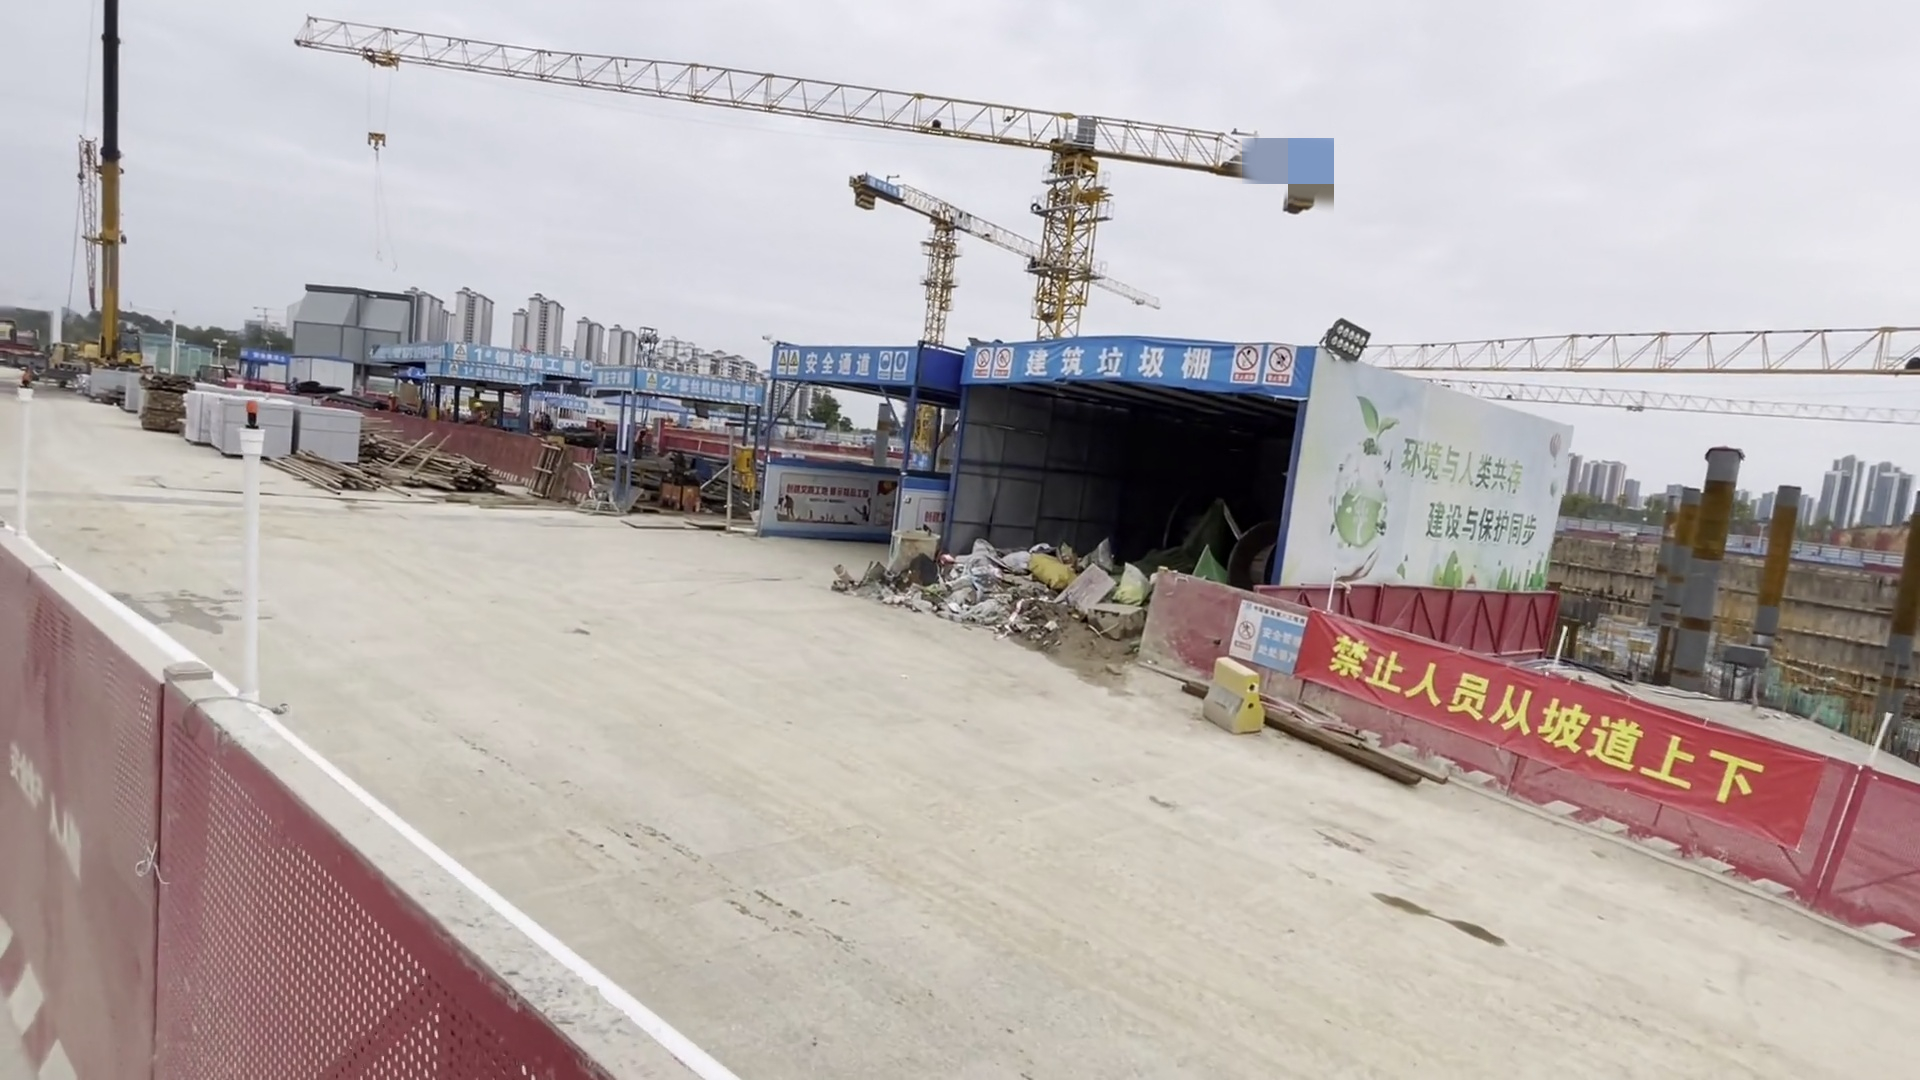brick: (185, 388, 367, 472)
scaffold: (367, 131, 384, 153)
slogan: (1299, 615, 1811, 840), (1321, 385, 1563, 607), (771, 334, 1245, 409), (384, 340, 745, 418)
